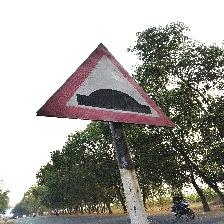Speed-breaker: (37, 42, 176, 126)
